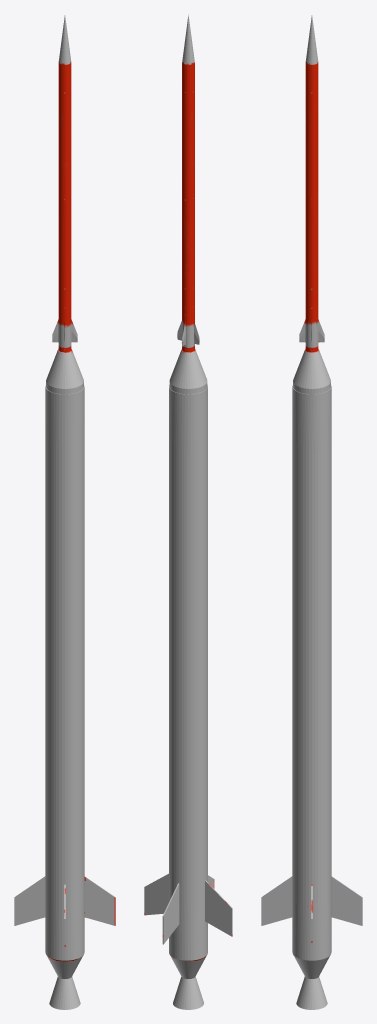
The model's file is DART16COLOUREDandMETAL.glb.
The picture shows the model from 3 angles, left to right: view 1: azimuth 90°, elevation 25°; view 2: azimuth 150°, elevation 25°; view 3: azimuth 270°, elevation 25°; orthographic projection.
Visible parts, largest first — view 1: DART; view 2: DART; view 3: DART.
Part boxes in pixels (left/top/right/bottom): DART: left=14, top=15, right=115, bottom=1009; DART: left=144, top=14, right=232, bottom=1009; DART: left=261, top=15, right=362, bottom=1009.
Bounding box in the file's own units: 6.24 × 67.07 × 6.24.
1 material, 1 textured.
